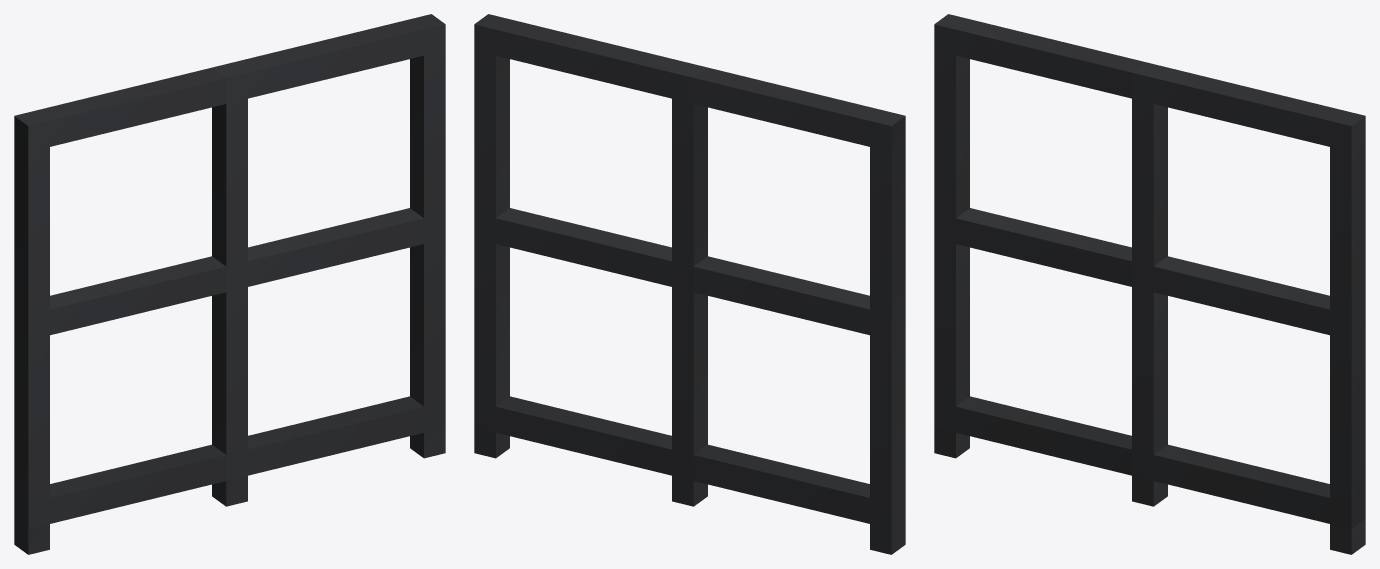
File: Wall_SteelColumn6.fbx
3 views of the same model, side by side, from view 1: azimuth 30°, elevation 25°; view 2: azimuth 150°, elevation 25°; view 3: azimuth 330°, elevation 25° (orthographic).
Visible parts, largest first — view 1: Wall_SteelColumn27; view 2: Wall_SteelColumn27; view 3: Wall_SteelColumn27.
Part boxes in pixels (<box>): Wall_SteelColumn27: <box>14,14,445,554</box>; Wall_SteelColumn27: <box>474,14,905,554</box>; Wall_SteelColumn27: <box>934,14,1365,554</box>.
Bounding box in the file's own units: 0.6798 × 0.6673 × 0.04.
Materials: 1 (1 with a texture image).
